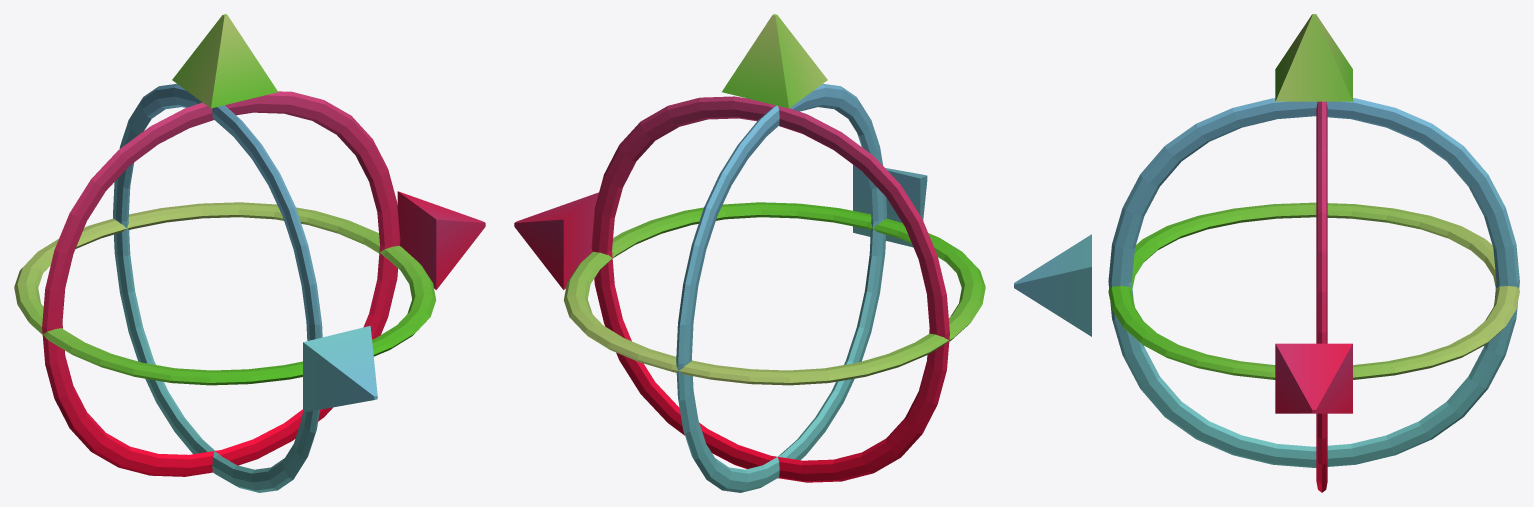
The model's file is arrows_new.fbx.
3 renders of one model, left to right at view 1: azimuth 30°, elevation 25°; view 2: azimuth 150°, elevation 25°; view 3: azimuth 270°, elevation 25°, orthographic.
Parts seen in each view (by area): view 1: R-X-axis, R-Z-axis, R-Y-axis, Y-axis, Z-axis, X-axis; view 2: R-X-axis, R-Z-axis, R-Y-axis, Y-axis, X-axis, Z-axis; view 3: R-Z-axis, R-Y-axis, X-axis, Y-axis, Z-axis, R-X-axis.
Part boxes in pixels (bbox=[...]): R-X-axis: bbox=[42, 91, 400, 476]; R-Z-axis: bbox=[113, 83, 322, 492]; R-Y-axis: bbox=[14, 202, 436, 385]; Y-axis: bbox=[172, 14, 277, 108]; Z-axis: bbox=[303, 326, 377, 412]; X-axis: bbox=[397, 191, 485, 289]; R-X-axis: bbox=[591, 96, 949, 482]; R-Z-axis: bbox=[676, 83, 886, 492]; R-Y-axis: bbox=[563, 202, 985, 385]; Y-axis: bbox=[722, 14, 827, 108]; X-axis: bbox=[514, 192, 598, 289]; Z-axis: bbox=[853, 165, 927, 247]; R-Z-axis: bbox=[1108, 98, 1519, 467]; R-Y-axis: bbox=[1108, 202, 1519, 379]; X-axis: bbox=[1275, 343, 1352, 413]; Y-axis: bbox=[1275, 14, 1352, 101]; Z-axis: bbox=[1014, 234, 1091, 336]; R-X-axis: bbox=[1316, 101, 1327, 492].
Size of the model in its own units: 228 by 228 by 229.
